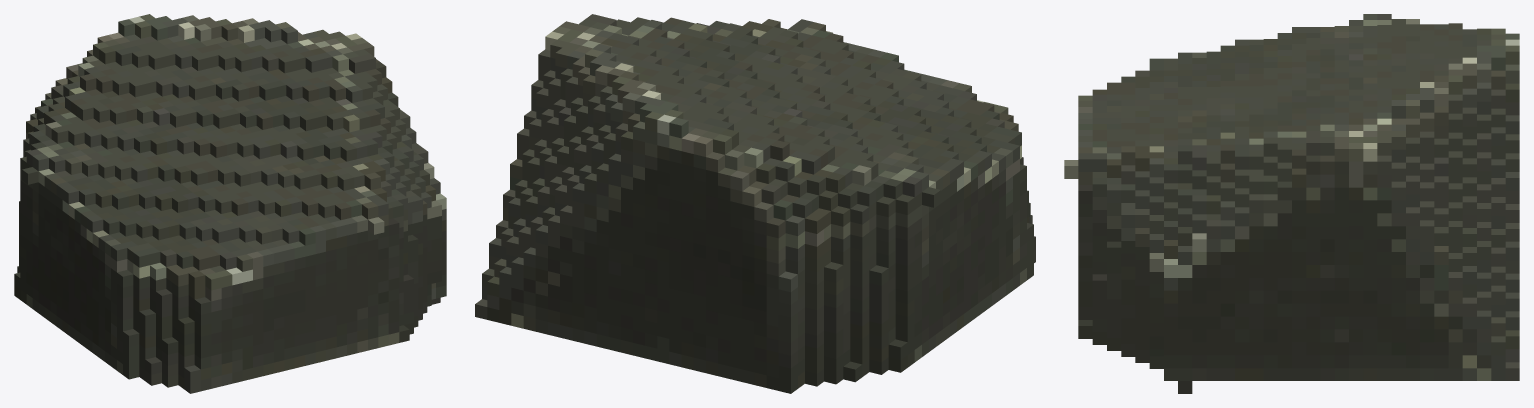
The model's file is rock 3.obj.
3 renders of one model, left to right at view 1: azimuth 30°, elevation 25°; view 2: azimuth 150°, elevation 25°; view 3: azimuth 270°, elevation 25°, orthographic. The views are drawn at different scales.
Size of the model in its own units: 3.2 by 2 by 3.2.
1 material, 1 textured.
